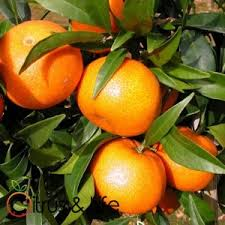orange: (77, 48, 164, 136), (1, 20, 83, 110), (86, 139, 168, 215), (156, 120, 218, 197)
